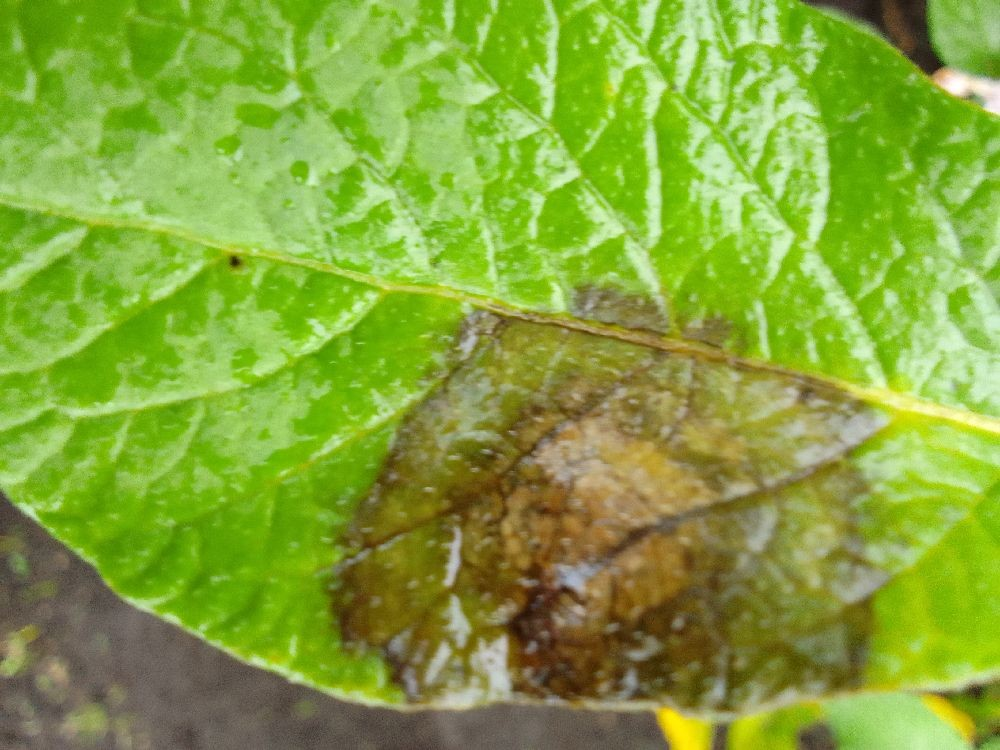late_blight: (0, 274, 889, 749), (785, 0, 967, 100), (916, 673, 1000, 750)
